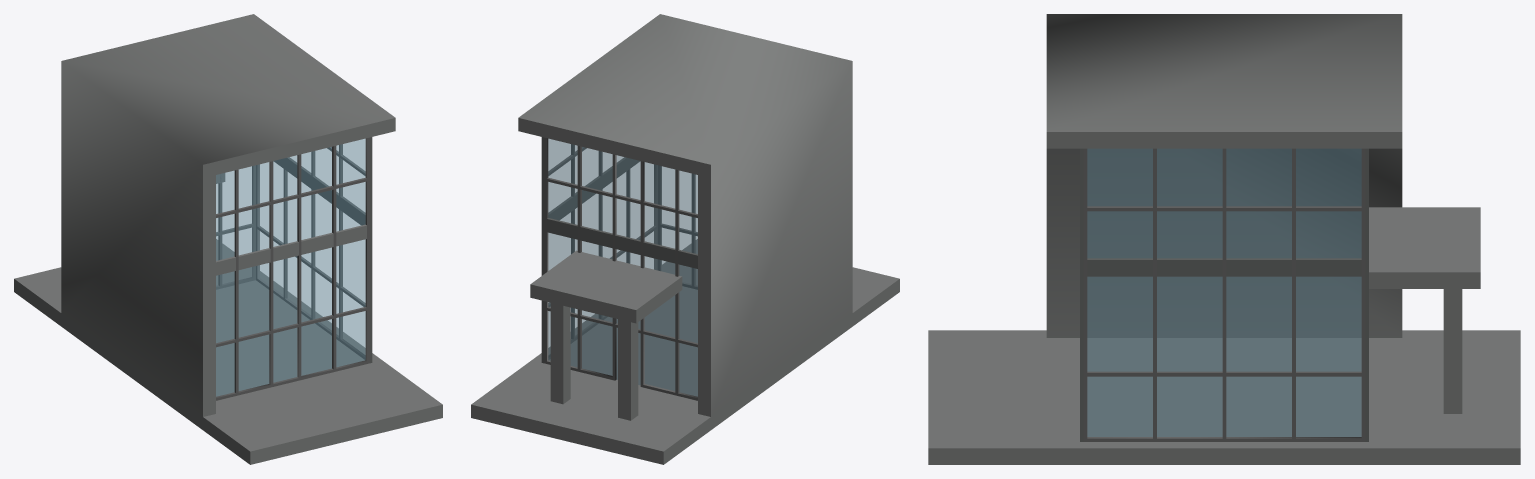
The model's file is Modern Houses(1).glb.
The picture shows the model from 3 angles, left to right: view 1: azimuth 30°, elevation 25°; view 2: azimuth 150°, elevation 25°; view 3: azimuth 270°, elevation 25°; orthographic projection. The views are drawn at different scales.
Parts seen in each view (by area): view 1: Root; view 2: Root; view 3: Root.
Part boxes in pixels (x1,y1,x2,y2): Root: (14, 14, 442, 464); Root: (471, 14, 899, 464); Root: (928, 14, 1520, 464).
Size of the model in its own units: 7.53 by 9.93 by 16.
